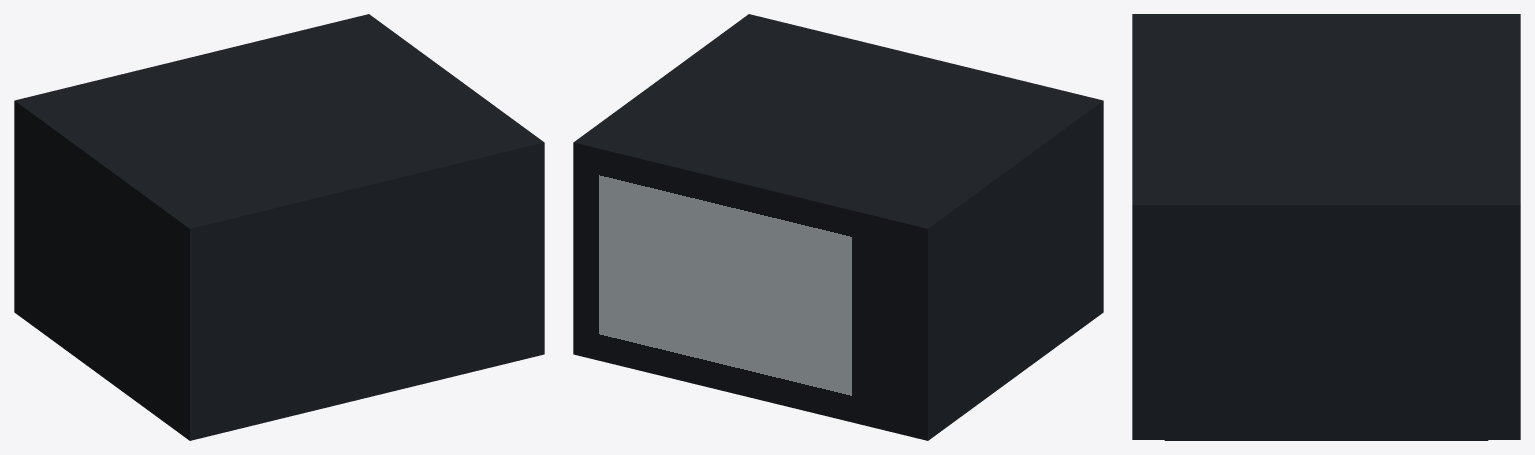
Rendered from microwaveold.gltf.
3 views of the same model, side by side, from view 1: azimuth 30°, elevation 25°; view 2: azimuth 150°, elevation 25°; view 3: azimuth 270°, elevation 25° (orthographic). The views are drawn at different scales.
Parts seen in each view (by area): view 1: mesh (×4), group; view 2: mesh (×4), group; view 3: mesh (×4), group.
Boxes of the visible parts, x1,y1,x2,y2 form: mesh (×4): [14, 24, 544, 440]; group: [65, 14, 382, 98]; mesh (×4): [588, 14, 1103, 440]; group: [573, 132, 891, 428]; mesh (×4): [1132, 14, 1520, 439]; group: [1488, 41, 1520, 439].
Bounding box in the file's own units: 0.875 × 0.5313 × 0.75.
Materials: 1 (1 with a texture image).
